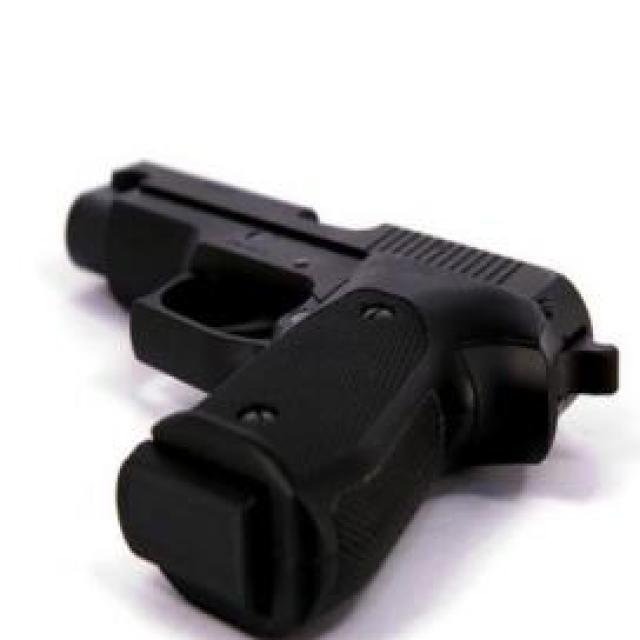pistol: (63, 158, 619, 628)
